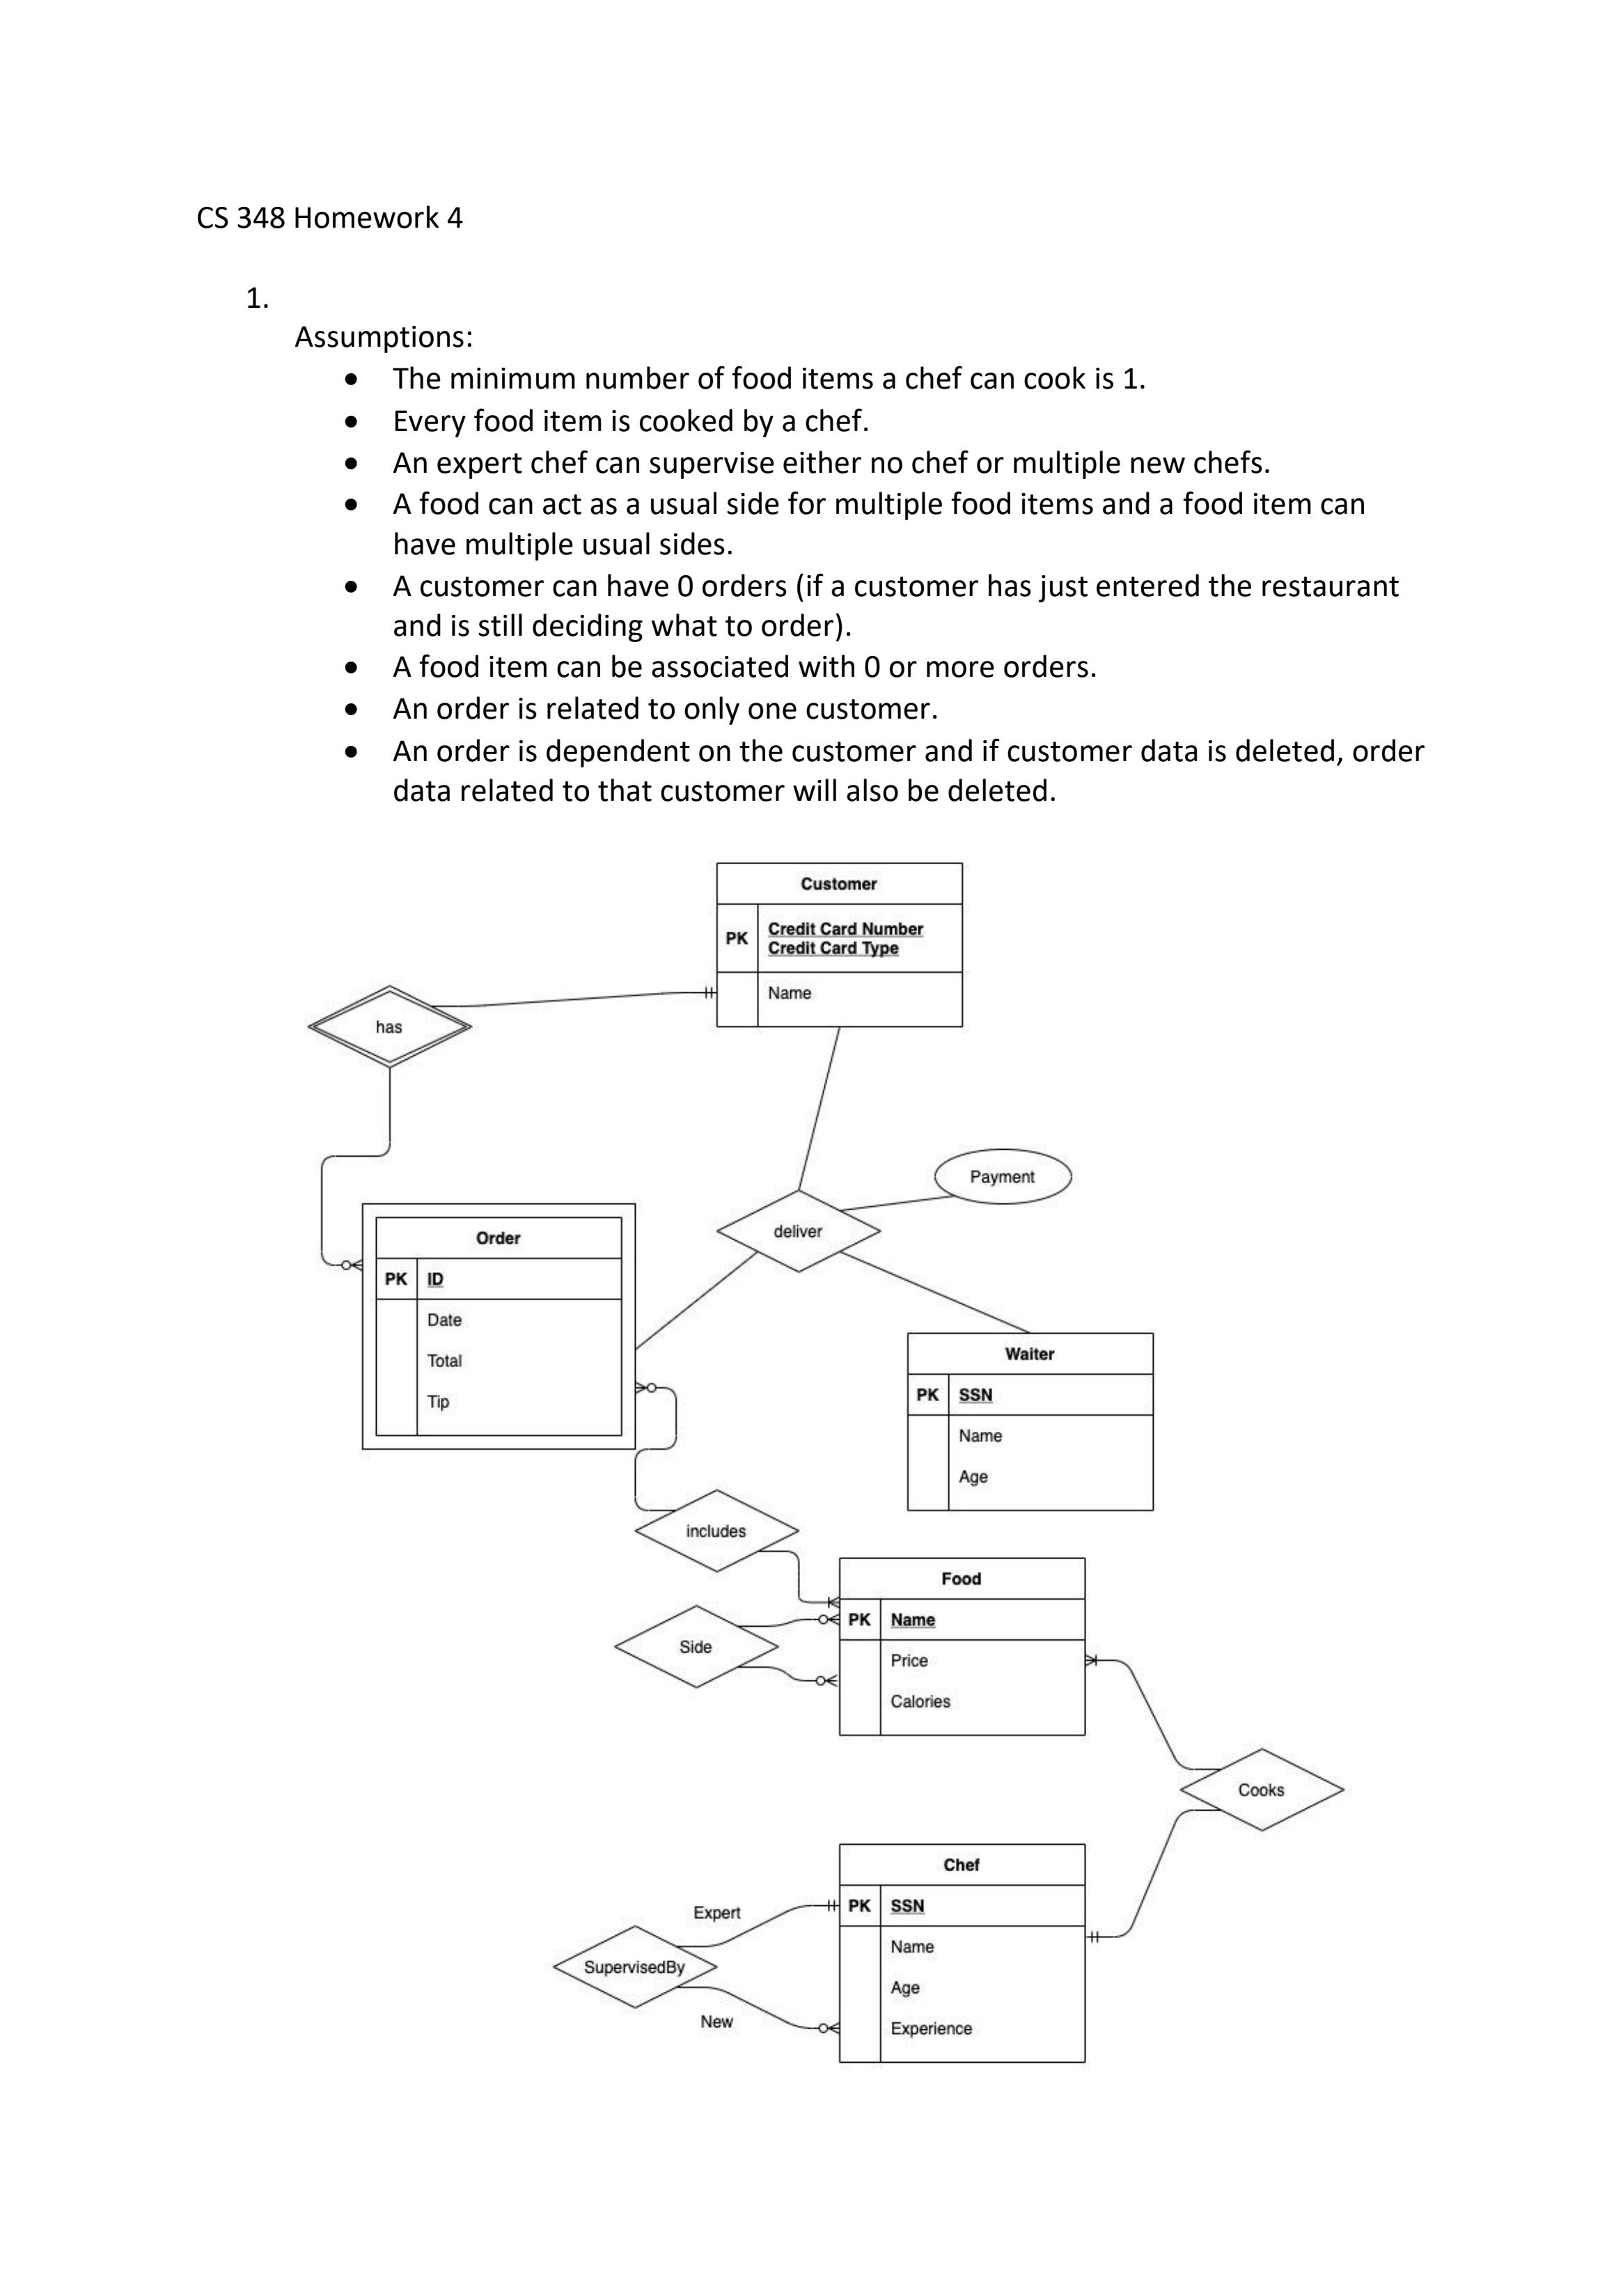Attribute: (931, 1140, 1077, 1207)
Entity: (824, 1834, 1091, 2071), (369, 1210, 629, 1442), (831, 1549, 1091, 1746), (899, 1328, 1161, 1516), (708, 857, 971, 1038)
Relationship: (550, 1920, 720, 2017), (304, 980, 474, 1075), (1177, 1741, 1351, 1830), (611, 1604, 783, 1693), (632, 1488, 803, 1576), (715, 1188, 882, 1274)
